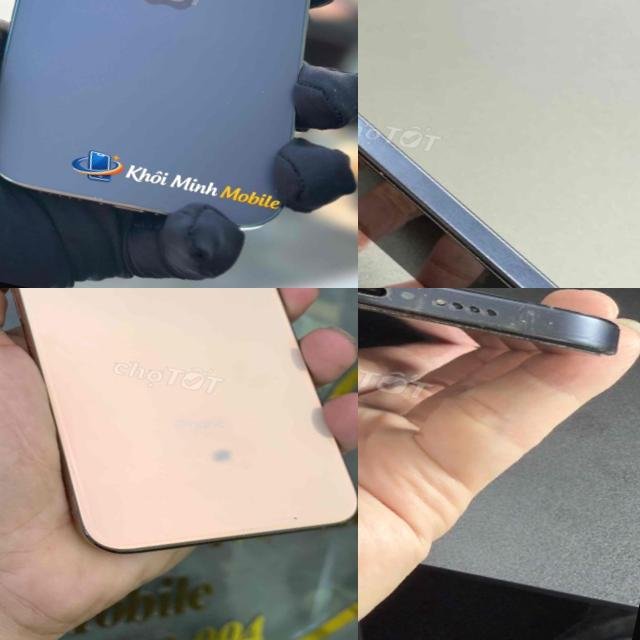gen_14: (0, 0, 358, 248)
gen_15: (358, 0, 640, 288), (358, 288, 640, 390)
gen_x_xs: (0, 288, 358, 617)
scratch: (438, 288, 639, 369), (358, 288, 442, 320), (284, 501, 310, 532)
